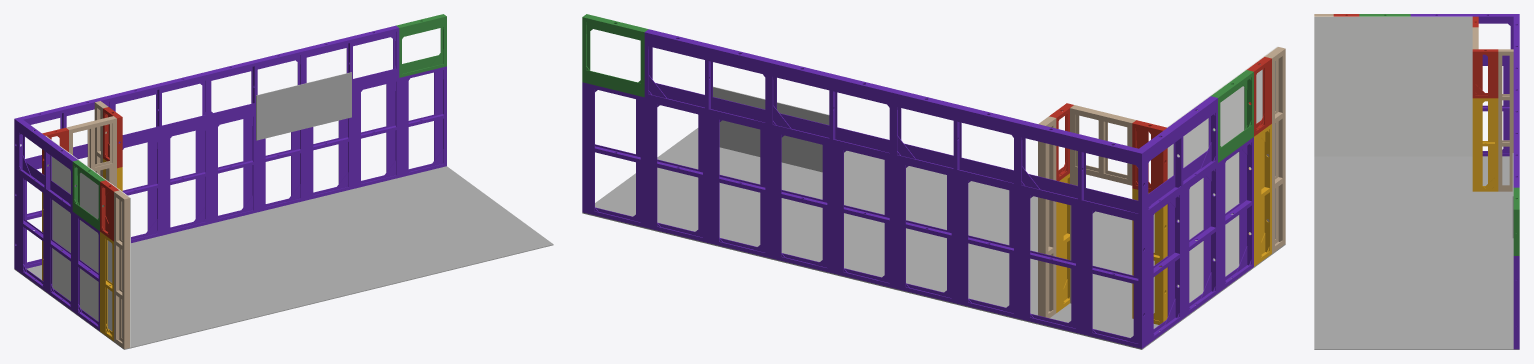
3 views of the same model, side by side, from view 1: azimuth 30°, elevation 25°; view 2: azimuth 150°, elevation 25°; view 3: azimuth 270°, elevation 25° (orthographic). The views are drawn at different scales.
Visible parts, largest first — view 1: Пол 9000х4000х16, Body17 (×12), Body18 (×11), Закладная телевизора, Лист ЛДСП 2, Лист ЛДСП 1, Лист ЛДСП 4, Body22, Лист ЛДСП 3, Боковина 2 2000 мм, Body20; view 2: Пол 9000х4000х16, Body18 (×17), Body17 (×12), Body22 (×10), Закладная телевизора, Лист ЛДСП 2, Лист ЛДСП 4, Body16 (×3), Лист ЛДСП 1, Лист ЛДСП 3, Body23, Body19 (+2 smaller); view 3: Пол 9000х4000х16, Лист ЛДСП 2, Лист ЛДСП 1, Лист ЛДСП 4, Лист ЛДСП 3, Body16 (×6), Body22, Body23 (×2), Body1, Задник вертикаль 2 2000 мм, Body17, Задник вертикаль 1 2000 мм (+8 smaller).
Part boxes in pixels (x1,y1,x2,y2): Пол 9000х4000х16: (14,166,553,349); Body17 (×12): (17,68,408,312); Body18 (×11): (19,26,443,230); Закладная телевизора: (256,72,351,140); Лист ЛДСП 2: (80,220,130,347); Лист ЛДСП 1: (52,200,70,300); Лист ЛДСП 4: (78,160,130,247); Body22: (100,235,105,332); Лист ЛДСП 3: (46,136,78,194); Боковина 2 2000 мм: (125,248,129,348); Body20: (402,17,443,37); Пол 9000х4000х16: (582,128,1285,349); Body18 (×17): (582,33,1246,332); Body17 (×12): (655,83,1225,341); Body22 (×10): (640,94,1261,344); Закладная телевизора: (713,86,829,172); Лист ЛДСП 2: (1213,124,1275,276); Лист ЛДСП 4: (1210,46,1277,146); Body16 (×3): (1175,144,1251,317); Лист ЛДСП 1: (1177,178,1203,302); Лист ЛДСП 3: (1167,96,1210,179); Body23: (1056,182,1063,308); Body19: (586,70,640,96); Пол 9000х4000х16: (1314,156,1519,349); Лист ЛДСП 2: (1314,63,1410,156); Лист ЛДСП 1: (1410,63,1472,156); Лист ЛДСП 4: (1314,16,1410,63); Лист ЛДСП 3: (1410,16,1472,63); Body16 (×6): (1410,14,1519,349); Body22: (1472,101,1482,188); Body23 (×2): (1414,16,1510,183); Body1: (1488,51,1498,98); Задник вертикаль 2 2000 мм: (1498,98,1502,191); Body17: (1503,66,1509,148); Задник вертикаль 1 2000 мм: (1509,98,1513,191).
Size of the model in its own units: 9 by 3.02 by 4.
